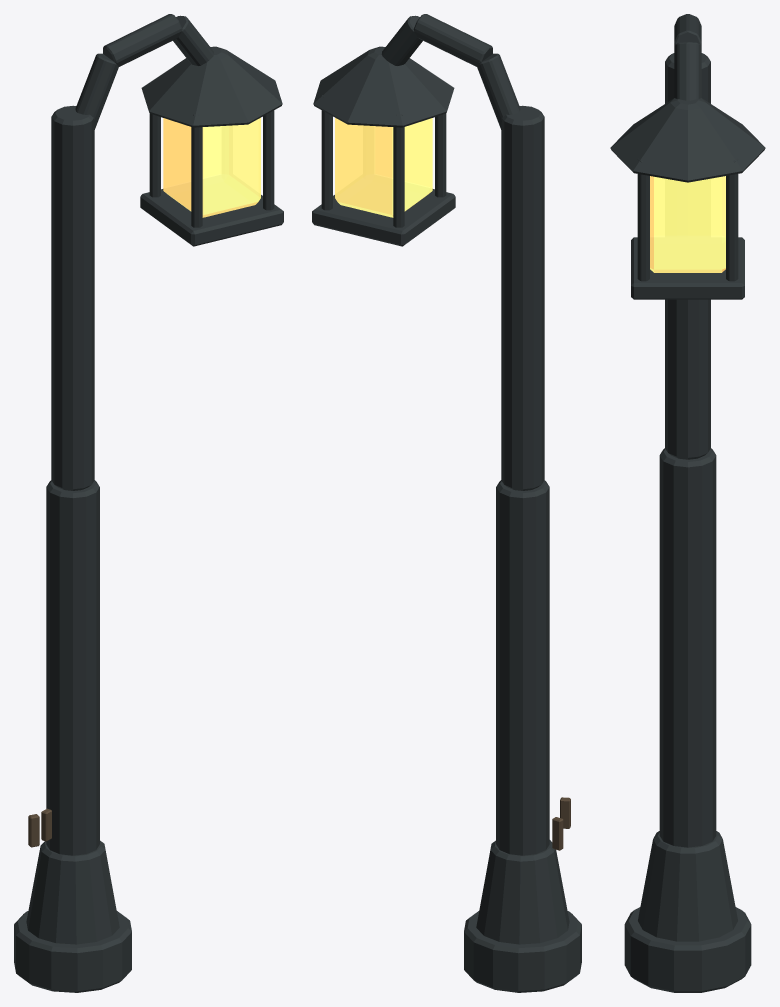
The model's file is runtime.glb.
3 renders of one model, left to right at view 1: azimuth 30°, elevation 25°; view 2: azimuth 150°, elevation 25°; view 3: azimuth 270°, elevation 25°, orthographic. The views are drawn at different scales.
Visible parts, largest first — view 1: eiffel-historic-lamp-v09_nocol; view 2: eiffel-historic-lamp-v09_nocol; view 3: eiffel-historic-lamp-v09_nocol.
Part boxes in pixels (box(x1,y1,x2,y2)): eiffel-historic-lamp-v09_nocol: box(14, 14, 283, 992); eiffel-historic-lamp-v09_nocol: box(312, 14, 581, 992); eiffel-historic-lamp-v09_nocol: box(610, 14, 765, 992).
Size of the model in its own units: 1.42 by 4.99 by 0.7103.
